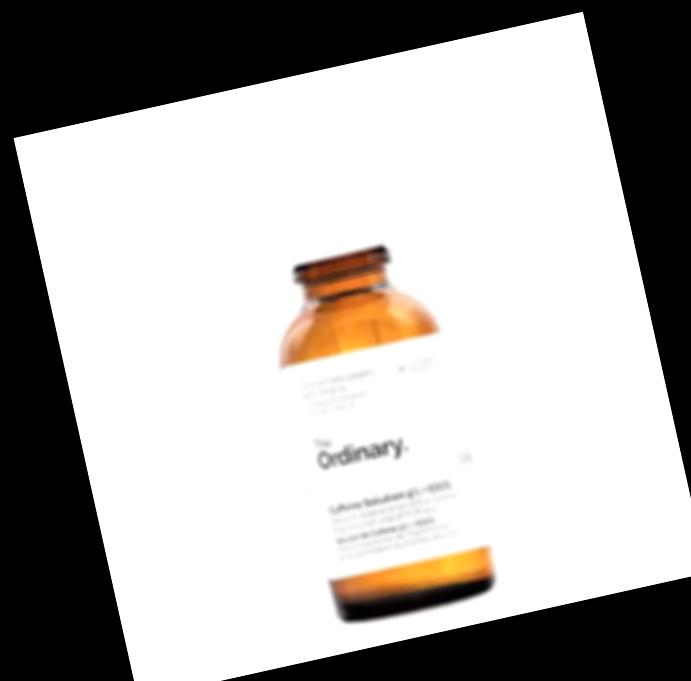cosmetic: (221, 80, 501, 625)
